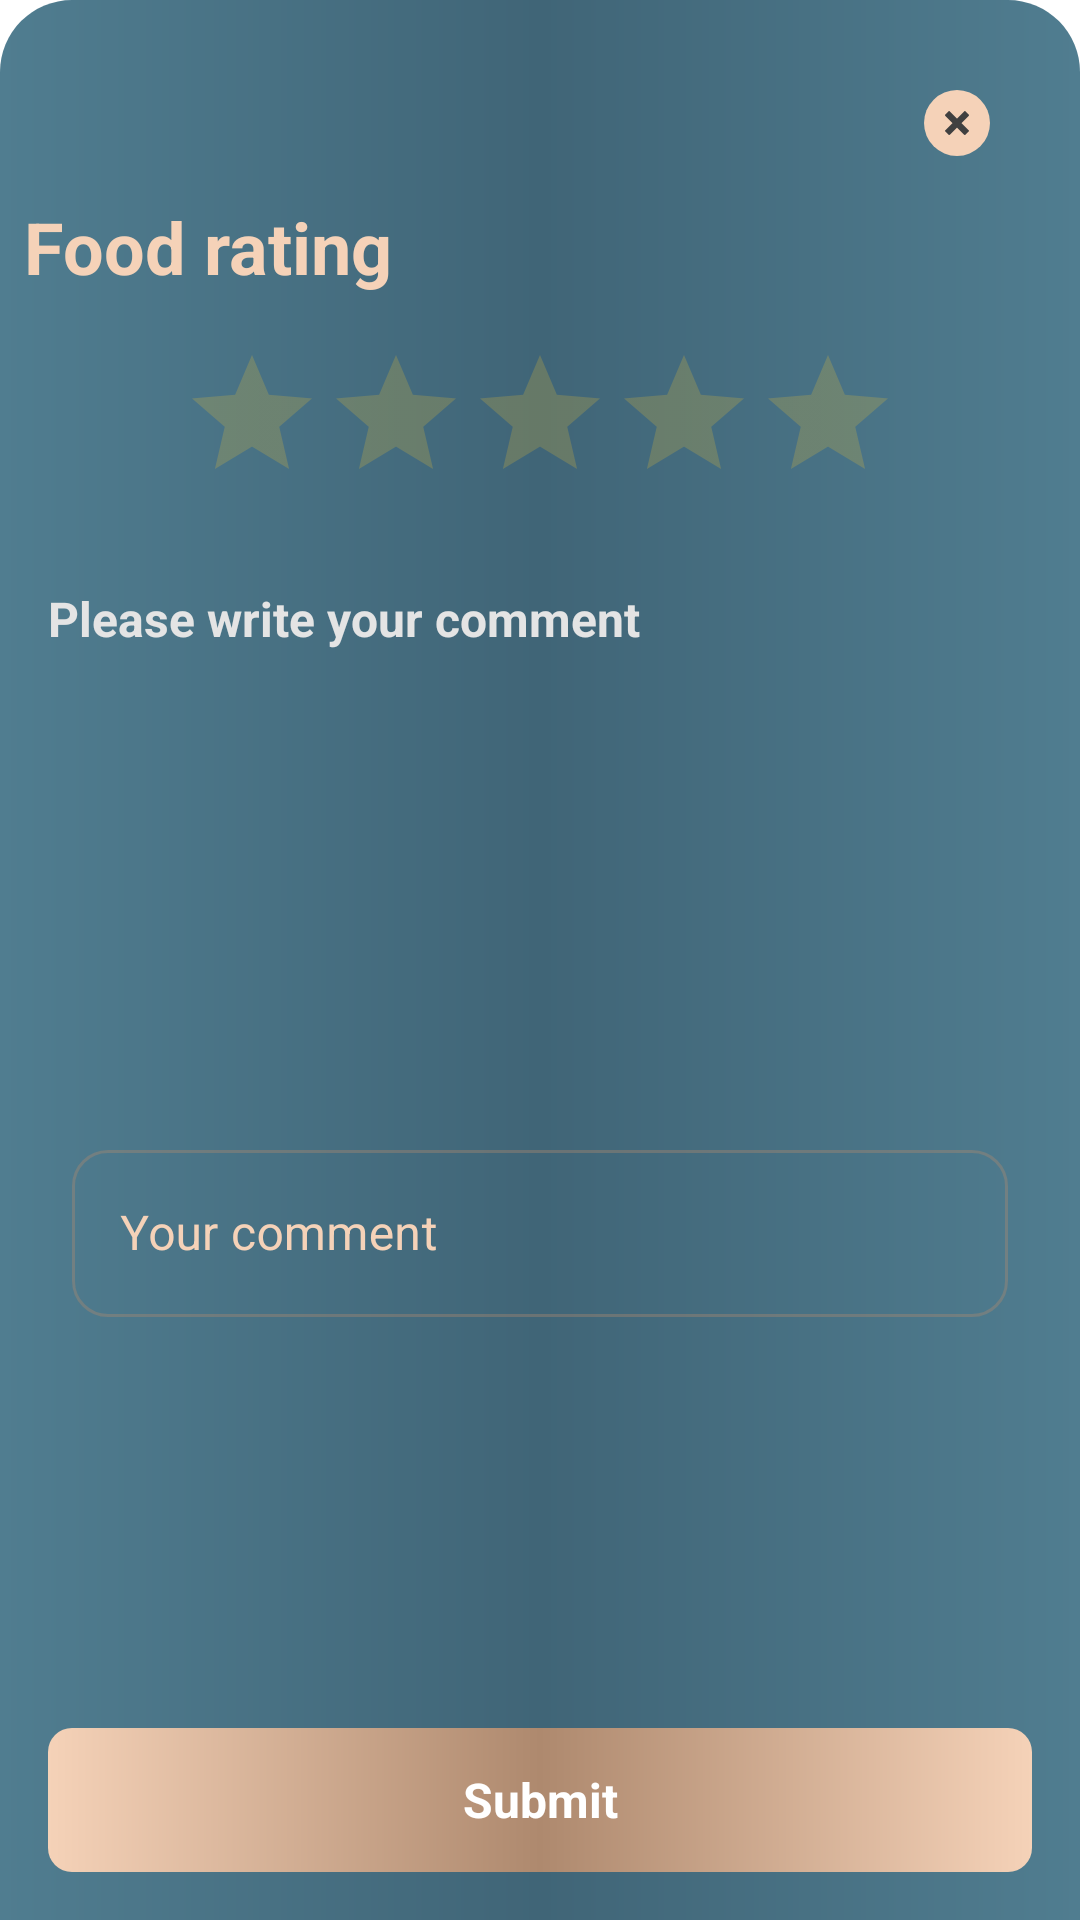

Point at icon controls on the screen. Image size 1080px×1920px, points as [x,y].
cancel dialog: [957,123]
